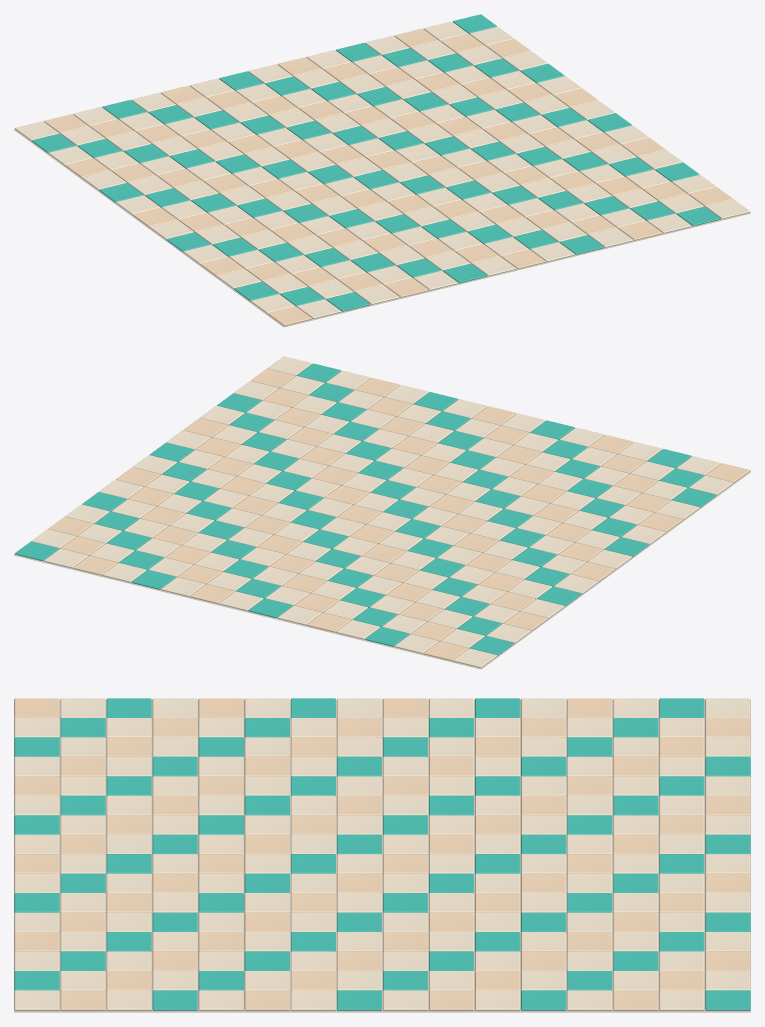
Rendered from AnnexFloor.fbx.
The picture shows the model from 3 angles, top to bottom: view 1: azimuth 30°, elevation 25°; view 2: azimuth 150°, elevation 25°; view 3: azimuth 270°, elevation 25°; orthographic projection. The views are drawn at different scales.
Visible parts, largest first — view 1: AnnexFloor mesh; view 2: AnnexFloor mesh; view 3: AnnexFloor mesh.
Boxes of the visible parts, x1=… form: AnnexFloor mesh: x1=14, y1=14, x2=750, y2=327; AnnexFloor mesh: x1=14, y1=356, x2=750, y2=669; AnnexFloor mesh: x1=14, y1=698, x2=750, y2=1012.
Size of the model in its own units: 10 by 0.05 by 10.
